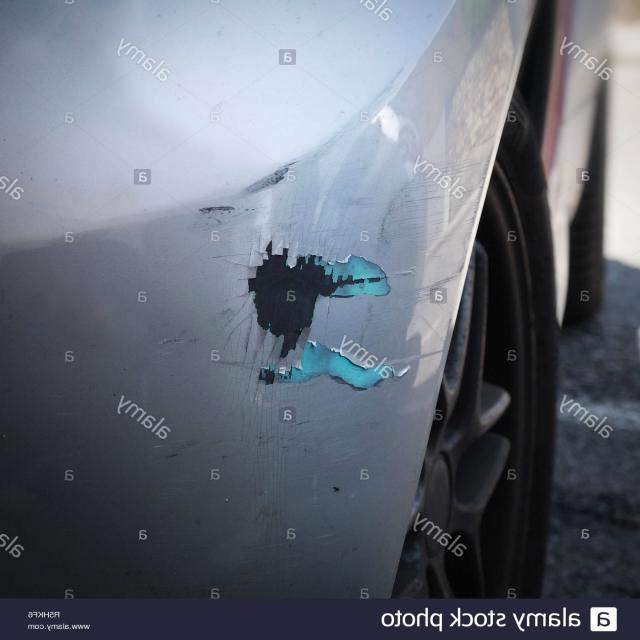minor: (195, 203, 240, 232)
moderate: (209, 206, 453, 408), (240, 161, 294, 197)
